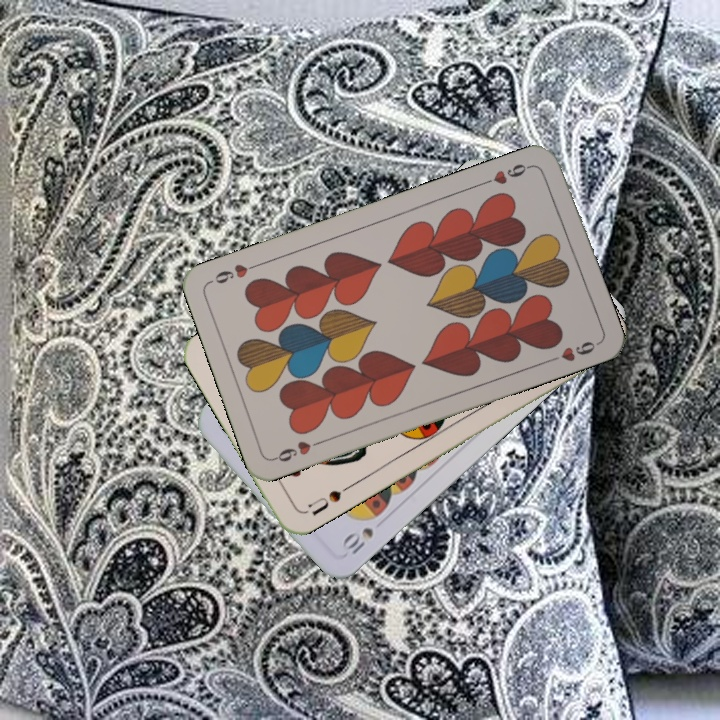H9: (269, 436, 327, 465), (479, 159, 536, 188)
S10: (337, 523, 376, 557)
SU: (304, 480, 354, 518)
